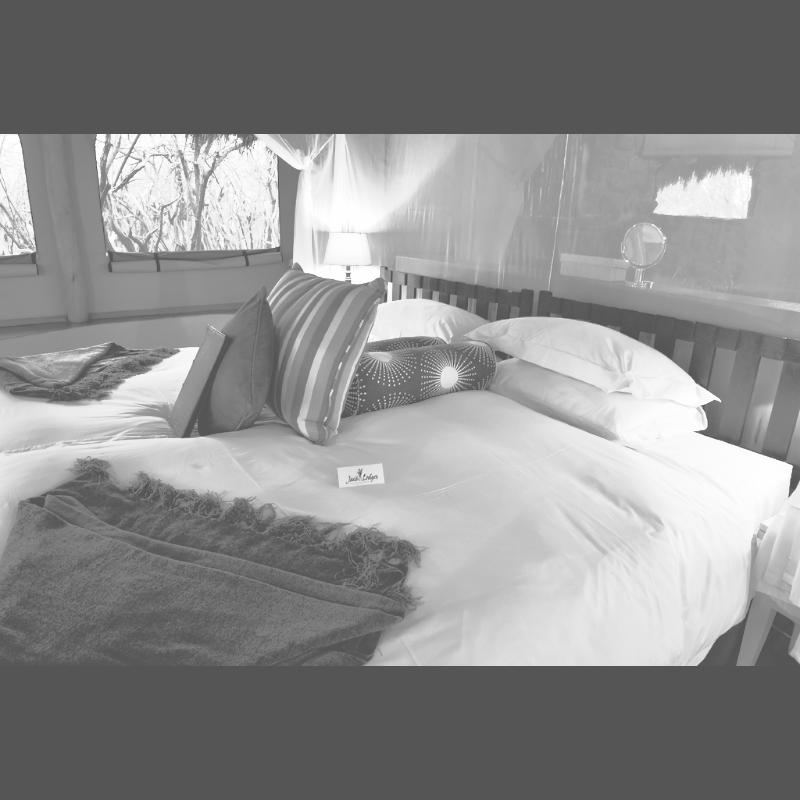pillow: (456, 313, 716, 413), (266, 264, 384, 446), (488, 354, 704, 449), (194, 290, 278, 434), (372, 300, 490, 342)
